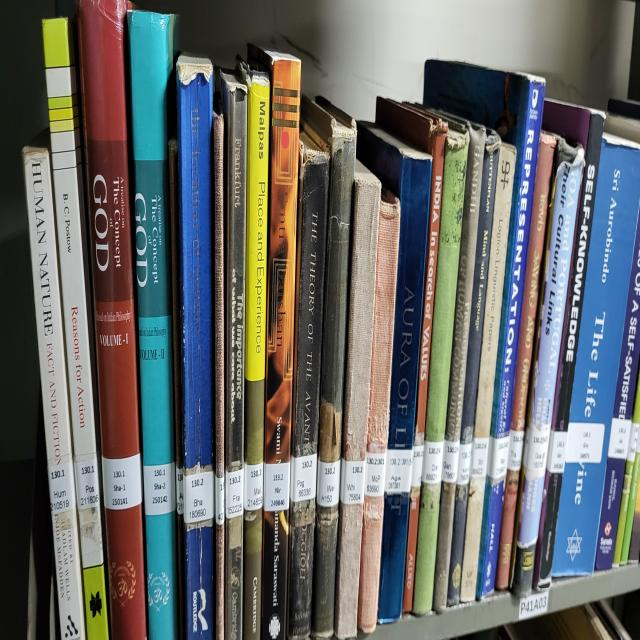Book: (424, 60, 545, 598), (78, 0, 146, 639), (42, 19, 109, 639), (552, 135, 640, 576), (376, 97, 448, 611), (358, 122, 431, 622), (532, 100, 604, 587), (128, 11, 179, 639), (515, 138, 584, 584), (249, 46, 300, 639), (24, 146, 85, 639), (301, 95, 356, 636), (412, 127, 469, 614), (496, 133, 556, 590), (460, 143, 516, 603), (434, 127, 486, 611), (448, 133, 500, 606), (288, 133, 330, 639), (178, 57, 214, 639), (358, 189, 400, 630), (220, 73, 248, 639), (212, 114, 225, 640)
Label: (102, 452, 142, 509), (144, 463, 176, 517), (565, 422, 605, 463), (184, 471, 214, 525), (48, 460, 76, 514), (522, 427, 550, 479), (290, 452, 318, 503), (75, 455, 100, 511), (264, 463, 290, 511), (385, 449, 412, 495), (340, 460, 366, 503), (316, 460, 340, 506), (486, 436, 510, 482), (421, 441, 444, 484), (225, 468, 244, 519), (365, 452, 386, 498), (244, 463, 264, 511), (546, 430, 568, 473), (441, 438, 460, 484), (471, 438, 489, 479), (456, 441, 472, 484), (508, 430, 524, 471), (411, 444, 424, 487), (215, 476, 225, 525), (176, 465, 184, 514)
